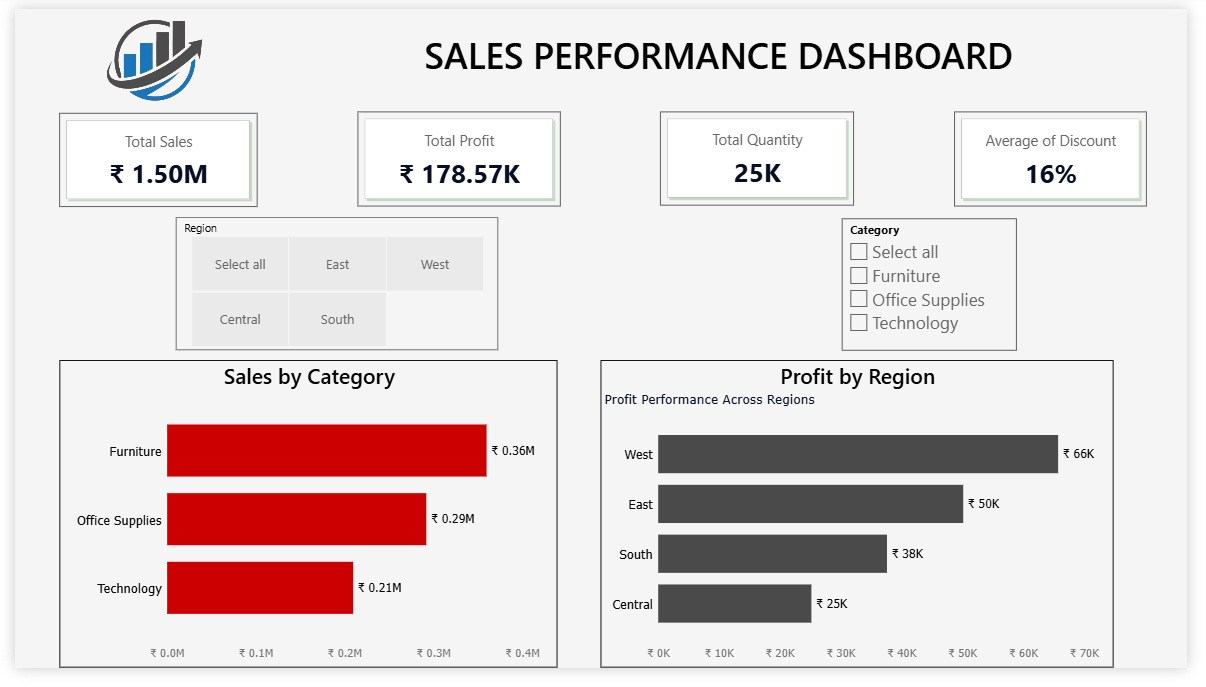

What the dashboard file says about the page in this screenshot:
{"tool":"powerbi","page":{"name":"Dashboard","canvas":[1920,1080],"ordinal":0},"visuals":[{"type":"cardVisual","fields":{"Data":["Sum(Superstore_dataset.Sales)"]},"box":[73.2,170.7,324.4,153.7],"z":0},{"type":"cardVisual","fields":{"Data":["Sum(Superstore_dataset.Profit)"]},"box":[561,167.5,332.5,155],"z":1000},{"type":"cardVisual","fields":{"Data":["Sum(Superstore_dataset.Quantity)"]},"box":[1057,168.3,317.1,153.7],"z":2000},{"type":"cardVisual","fields":{"Data":["Avg(Superstore_dataset.Discount)"]},"box":[1537.5,167.5,315,155],"z":3000},{"type":"clusteredBarChart","title":"Sales by Category","fields":{"Category":["Superstore_dataset.Category"],"Y":["Sum(Superstore_dataset.Sales)"]},"box":[72,576,816,504],"z":4000},{"type":"clusteredBarChart","title":"Profit by Region","fields":{"Category":["Superstore_dataset.Region"],"Y":["Sum(Superstore_dataset.Profit)"]},"box":[960,576,840,504],"z":5000},{"type":"slicer","fields":{"Values":["Superstore_dataset.Region"]},"box":[262.5,340,527.5,217.5],"z":6000},{"type":"slicer","fields":{"Values":["Superstore_dataset.Category"]},"box":[1354.5,343.2,286.4,215.9],"z":7000},{"type":"textbox","box":[629.5,29.5,1045.5,100],"z":8000},{"type":"image","box":[100,0,257.5,167.5],"z":9000}]}

Visuals, with their boxes in screenshot pixels (x1, y1, x2, y2), scaled from the page's 1920x1080 canvas onto the 1206x687 screenshot:
cardVisual - Sum(Superstore_dataset.Sales): 46 109 250 206
cardVisual - Sum(Superstore_dataset.Profit): 352 107 561 205
cardVisual - Sum(Superstore_dataset.Quantity): 664 107 863 205
cardVisual - Avg(Superstore_dataset.Discount): 966 107 1164 205
"Sales by Category" clusteredBarChart: 45 366 558 686
"Profit by Region" clusteredBarChart: 603 366 1131 686
slicer - Superstore_dataset.Region: 165 216 496 355
slicer - Superstore_dataset.Category: 851 218 1031 356
textbox: 395 19 1052 82
image: 63 0 225 107
